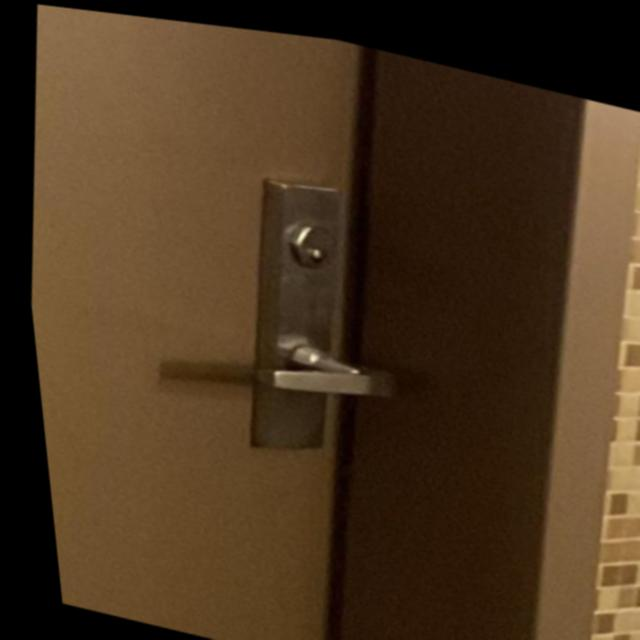door_handle: (212, 299, 419, 429)
